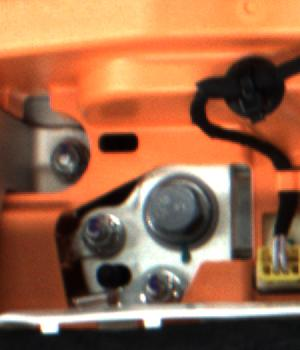nut_b: (146, 176, 217, 245)
